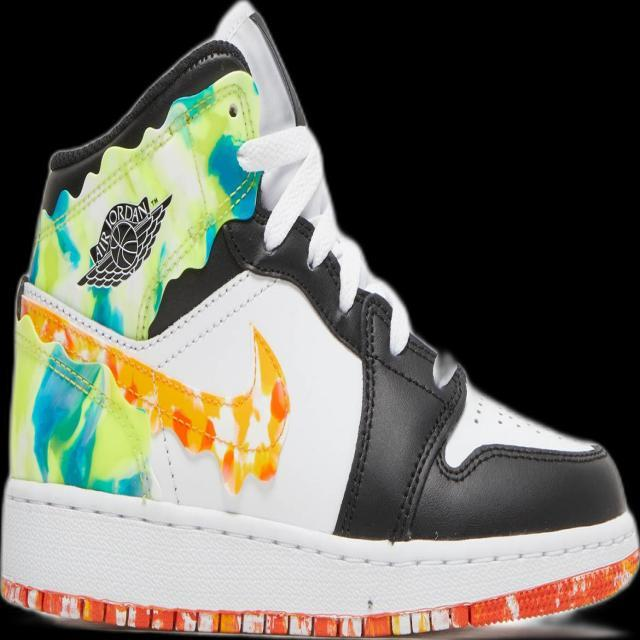J1_InsoleChar: (0, 1, 637, 638)
J1_ShoeLogo: (28, 67, 264, 341), (27, 342, 155, 499), (75, 192, 173, 289)
J1_StitchPattern: (11, 266, 609, 541), (14, 272, 292, 496), (1, 484, 636, 578), (2, 552, 637, 638), (332, 289, 466, 541), (16, 268, 276, 363), (386, 357, 467, 543), (148, 268, 277, 369), (333, 292, 384, 538)
